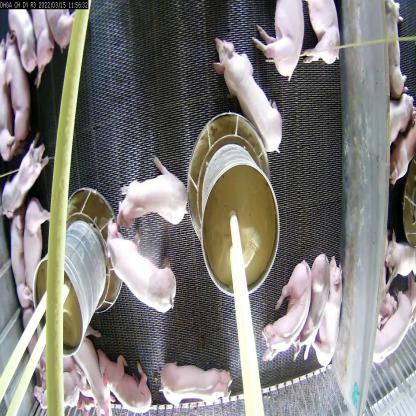Pig: (210, 33, 284, 157), (104, 220, 178, 316), (116, 157, 191, 230), (159, 352, 238, 416), (251, 0, 307, 84), (17, 201, 57, 315), (100, 342, 153, 415), (70, 330, 112, 416), (0, 140, 45, 215), (376, 288, 412, 378), (0, 50, 30, 150), (4, 212, 33, 315), (302, 0, 343, 69), (8, 4, 38, 77)
